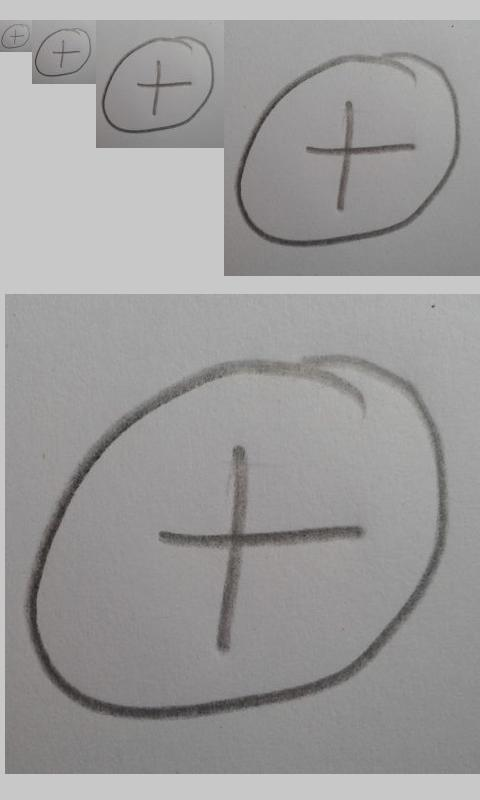button: (22, 352, 452, 723), (235, 51, 461, 248), (101, 36, 215, 134), (34, 27, 93, 77), (1, 23, 30, 49)
